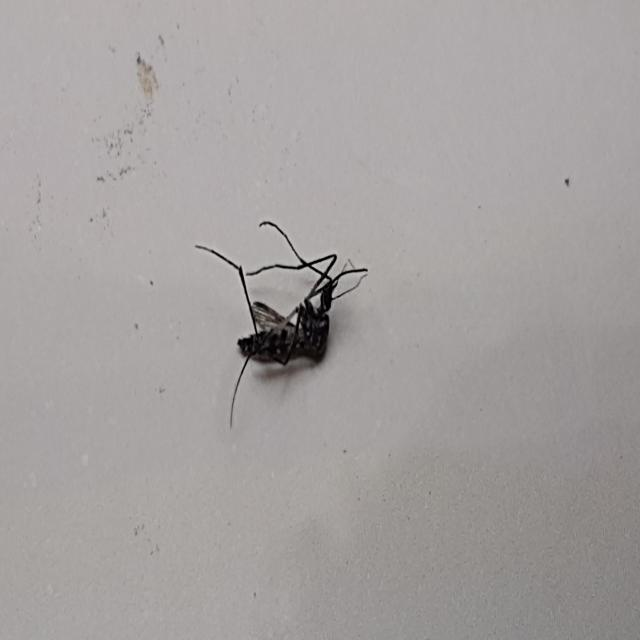albopictus: (194, 200, 365, 432)
